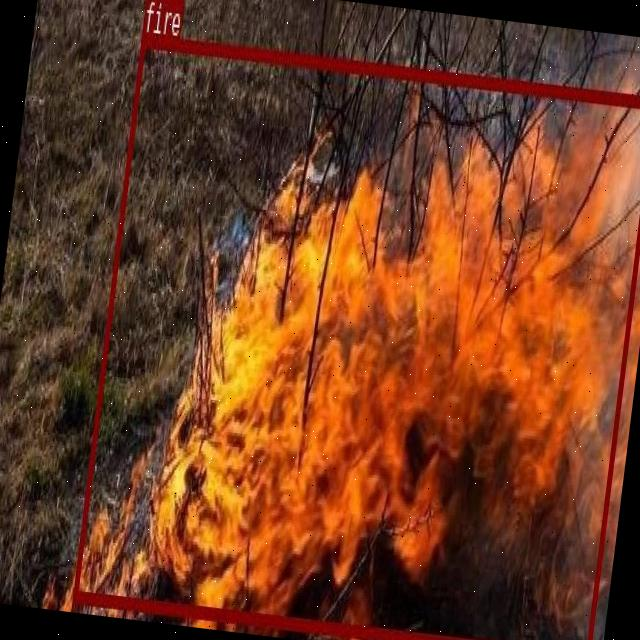fire: (72, 34, 640, 640)
